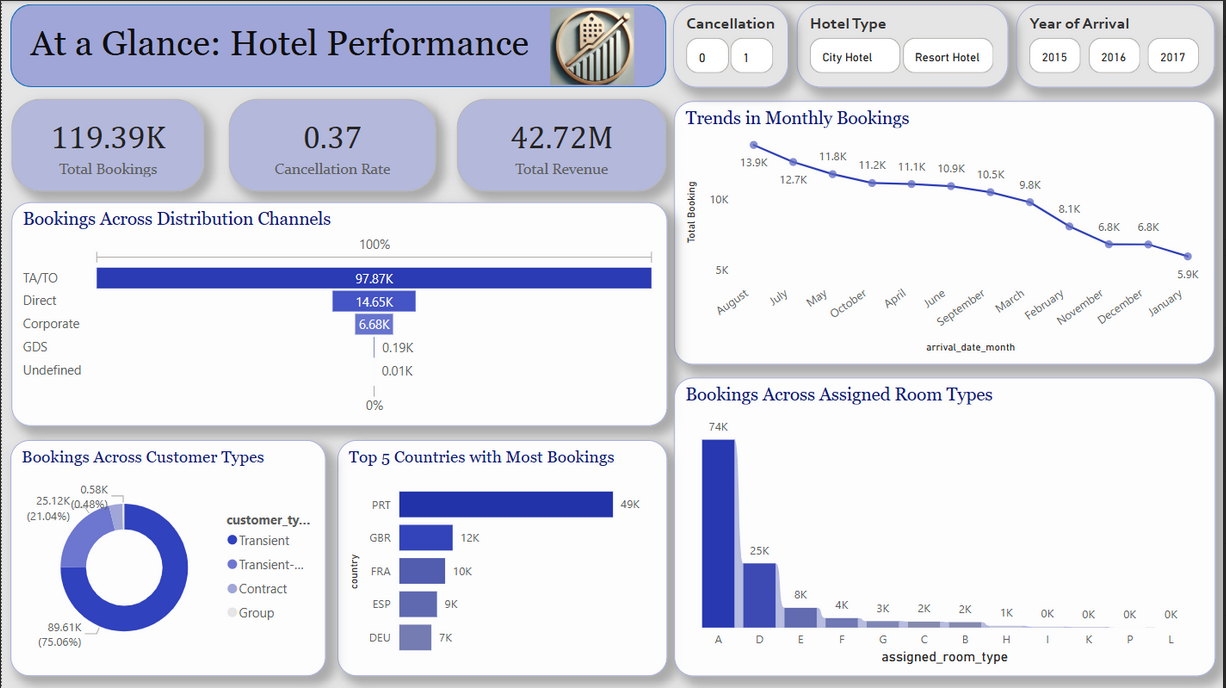

The page's visual inventory and layout, read from the dashboard file:
{"tool":"powerbi","page":{"name":"Page 1","canvas":[1280,720],"ordinal":0},"visuals":[{"type":"shape","box":[8.6,3.7,687.2,86.8],"z":0},{"type":"card","fields":{"Values":["CountNonNull(Hotel Bookings.hotel)"]},"box":[10,102.1,201.8,97.1],"z":1000},{"type":"card","fields":{"Values":["Hotel Bookings.Cancellation_Rate"]},"box":[237.9,102.1,216.7,97.1],"z":2000},{"type":"card","fields":{"Values":["Hotel Bookings.Total_Revenue"]},"box":[477,102.1,219.2,97.1],"z":3000},{"type":"advancedSlicerVisual","title":"Hotel Type","fields":{"Values":["Hotel Bookings.hotel"]},"box":[833.2,3.7,221.7,87.2],"z":4000},{"type":"advancedSlicerVisual","title":"Year of Arrival","fields":{"Values":["Hotel Bookings.arrival_date_year"]},"box":[1062.6,3.7,207.9,86.8],"z":5000},{"type":"lineChart","title":"Trends in Monthly Bookings","fields":{"Category":["Hotel Bookings.arrival_date_month"],"Y":["CountNonNull(Hotel Bookings.hotel)"]},"box":[703.9,104.3,566.7,275.8],"z":6000},{"type":"funnel","title":"Bookings Across Distribution Channels","fields":{"Category":["Hotel Bookings.distribution_channel"],"Y":["CountNonNull(Hotel Bookings.hotel)"]},"box":[9.6,211.3,687.5,234.6],"z":7000},{"type":"advancedSlicerVisual","title":"Cancellation","fields":{"Values":["Hotel Bookings.is_canceled"]},"box":[704.7,3.5,119.8,83.7],"z":8000},{"type":"clusteredBarChart","title":"Top 5 Countries with Most Bookings","fields":{"Category":["Hotel Bookings.country"],"Y":["CountNonNull(Hotel Bookings.hotel)"]},"box":[351.3,460,345.4,247.1],"z":9000},{"type":"donutChart","title":"Bookings Across Customer Types","fields":{"Category":["Hotel Bookings.customer_type"],"Y":["CountNonNull(Hotel Bookings.hotel)"]},"box":[8.9,460,330.5,247.1],"z":10000},{"type":"columnChart","title":"Bookings Across Assigned Room Types","fields":{"Category":["Hotel Bookings.assigned_room_type"],"Y":["CountNonNull(Hotel Bookings.hotel)"]},"box":[704.2,394.5,567.2,312.6],"z":11000},{"type":"textbox","box":[24.5,18.3,661.6,59.9],"z":12000},{"type":"image","box":[524.6,2.4,188.3,90.5],"z":13000}]}

Visuals, with their boxes in screenshot pixels (x1, y1, x2, y2), scaled from the page's 1280x720 canvas onto the 1226x688 screenshot:
shape: box=[8, 4, 666, 86]
card - CountNonNull(Hotel Bookings.hotel): box=[10, 98, 203, 190]
card - Hotel Bookings.Cancellation_Rate: box=[228, 98, 435, 190]
card - Hotel Bookings.Total_Revenue: box=[457, 98, 667, 190]
"Hotel Type" advancedSlicerVisual: box=[798, 4, 1010, 87]
"Year of Arrival" advancedSlicerVisual: box=[1018, 4, 1217, 86]
"Trends in Monthly Bookings" lineChart: box=[674, 100, 1217, 363]
"Bookings Across Distribution Channels" funnel: box=[9, 202, 668, 426]
"Cancellation" advancedSlicerVisual: box=[675, 3, 790, 83]
"Top 5 Countries with Most Bookings" clusteredBarChart: box=[336, 440, 667, 676]
"Bookings Across Customer Types" donutChart: box=[9, 440, 325, 676]
"Bookings Across Assigned Room Types" columnChart: box=[674, 377, 1218, 676]
textbox: box=[23, 17, 657, 75]
image: box=[502, 2, 683, 89]
